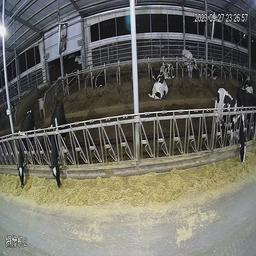cow: (212, 83, 252, 174), (10, 101, 39, 197), (47, 94, 70, 196), (147, 65, 173, 108), (178, 42, 200, 82), (88, 66, 112, 95), (202, 55, 220, 81), (160, 56, 176, 84)
